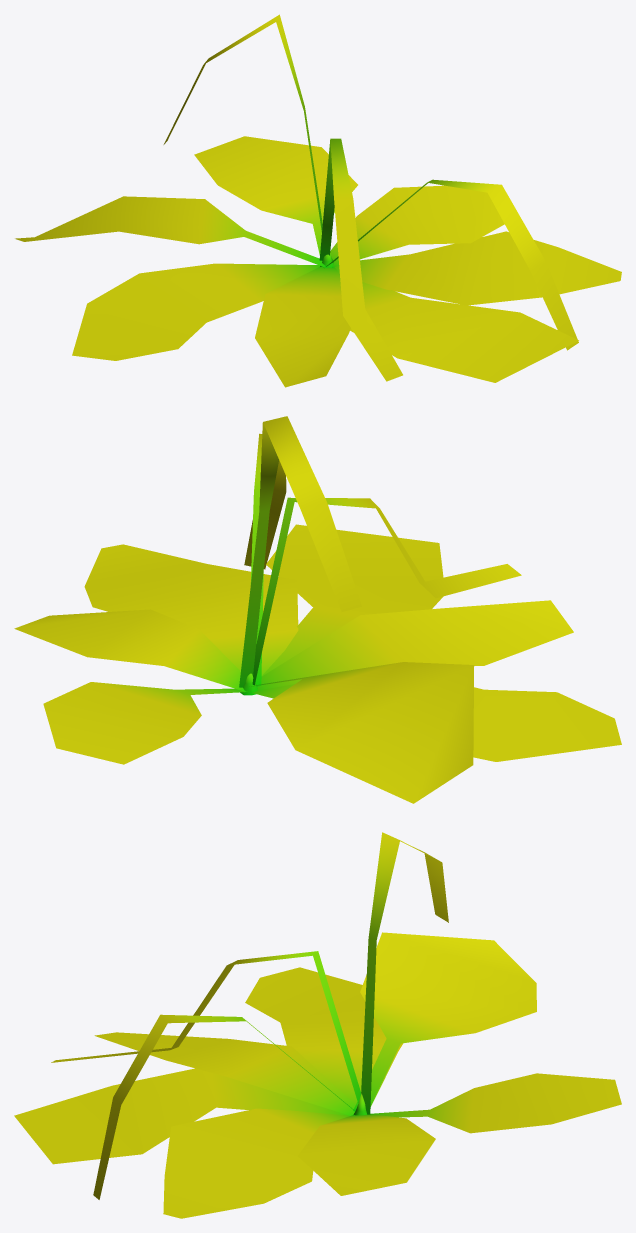
File: Broadleaf Plantain_LOD2_Var4_sfhjc.fbx
3 renders of one model, top to bottom at view 1: azimuth 30°, elevation 25°; view 2: azimuth 150°, elevation 25°; view 3: azimuth 270°, elevation 25°, orthographic. The views are drawn at different scales.
Parts seen in each view (by area): view 1: _742b_Var4_LOD2; view 2: _742b_Var4_LOD2; view 3: _742b_Var4_LOD2.
Part boxes in pixels (x1=…): _742b_Var4_LOD2: x1=15, y1=14, x2=621, y2=387; _742b_Var4_LOD2: x1=14, y1=416, x2=621, y2=803; _742b_Var4_LOD2: x1=14, y1=832, x2=621, y2=1218.
Bounding box in the file's own units: 19.35 × 9.98 × 19.45.
